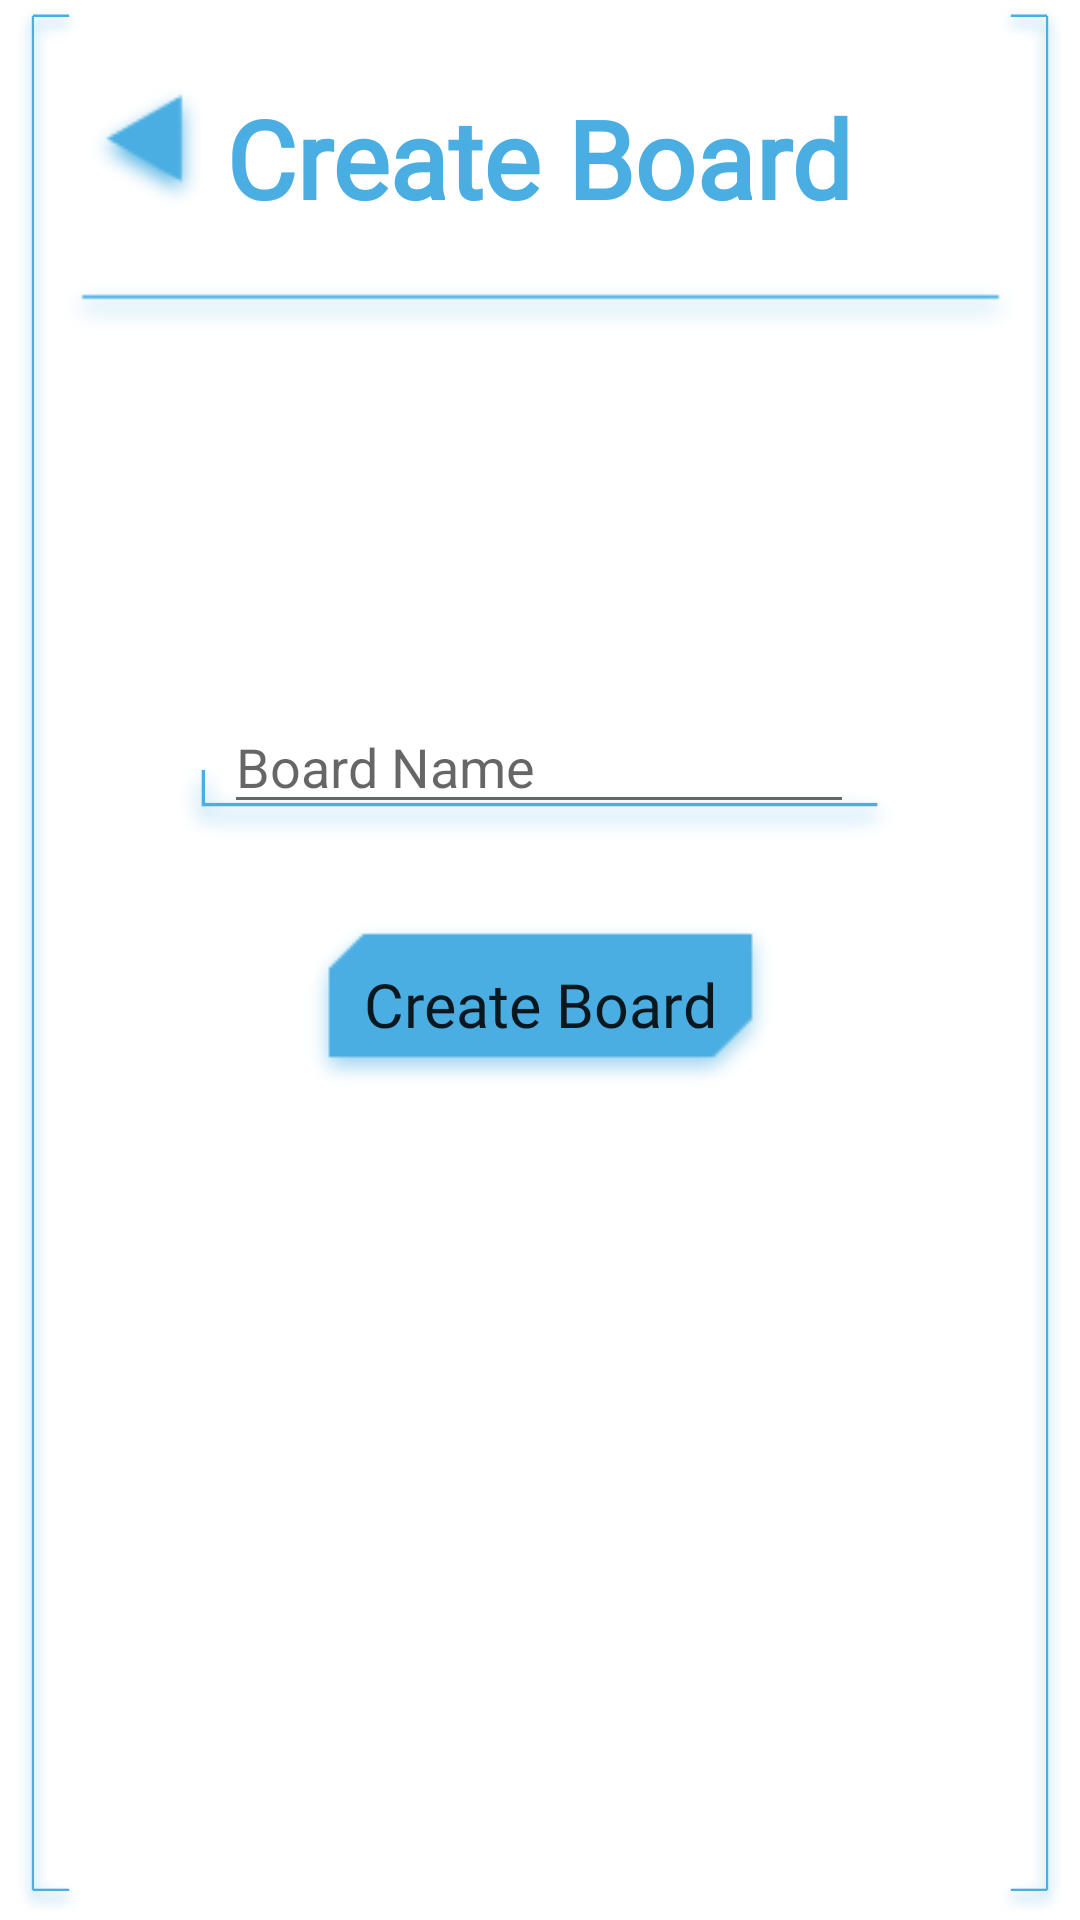

Where icons sit on this 1080px x 1920px app screen, as (left=x1, top=y1, right=x2, bottom=y2):
back: (left=106, top=94, right=192, bottom=194)
